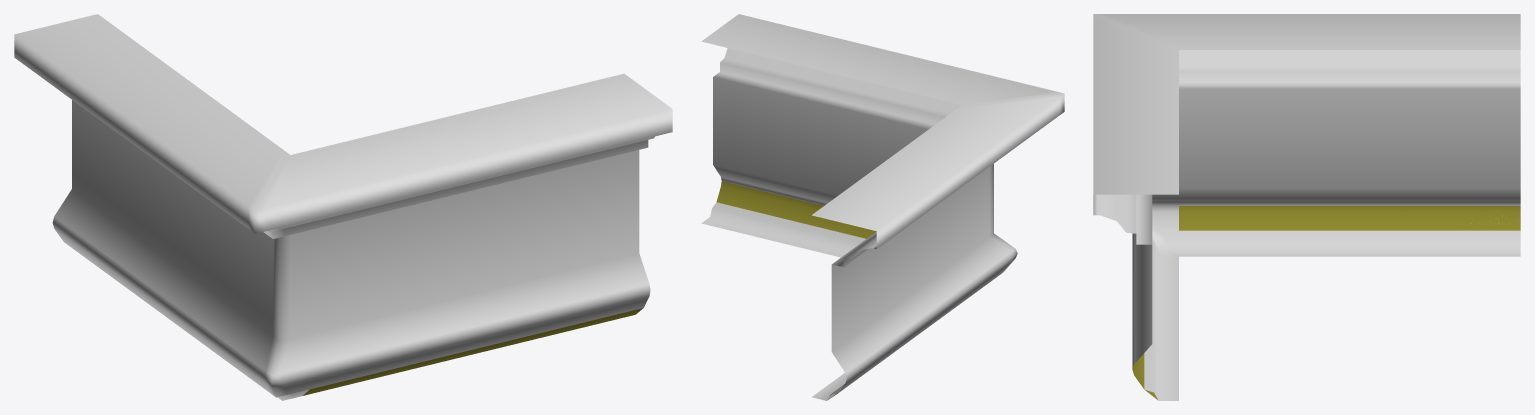
The model's file is SM_FriezeACorner1.5m.fbx.
3 renders of one model, left to right at view 1: azimuth 30°, elevation 25°; view 2: azimuth 150°, elevation 25°; view 3: azimuth 270°, elevation 25°, orthographic. The views are drawn at different scales.
Visible parts, largest first — view 1: SM_FriezeACorner1.5m; view 2: SM_FriezeACorner1.5m; view 3: SM_FriezeACorner1.5m.
Part boxes in pixels (<box>): SM_FriezeACorner1.5m: <box>14,14,672,400</box>; SM_FriezeACorner1.5m: <box>701,14,1064,400</box>; SM_FriezeACorner1.5m: <box>1093,14,1520,400</box>.
Size of the model in its own units: 188 by 100 by 188.
